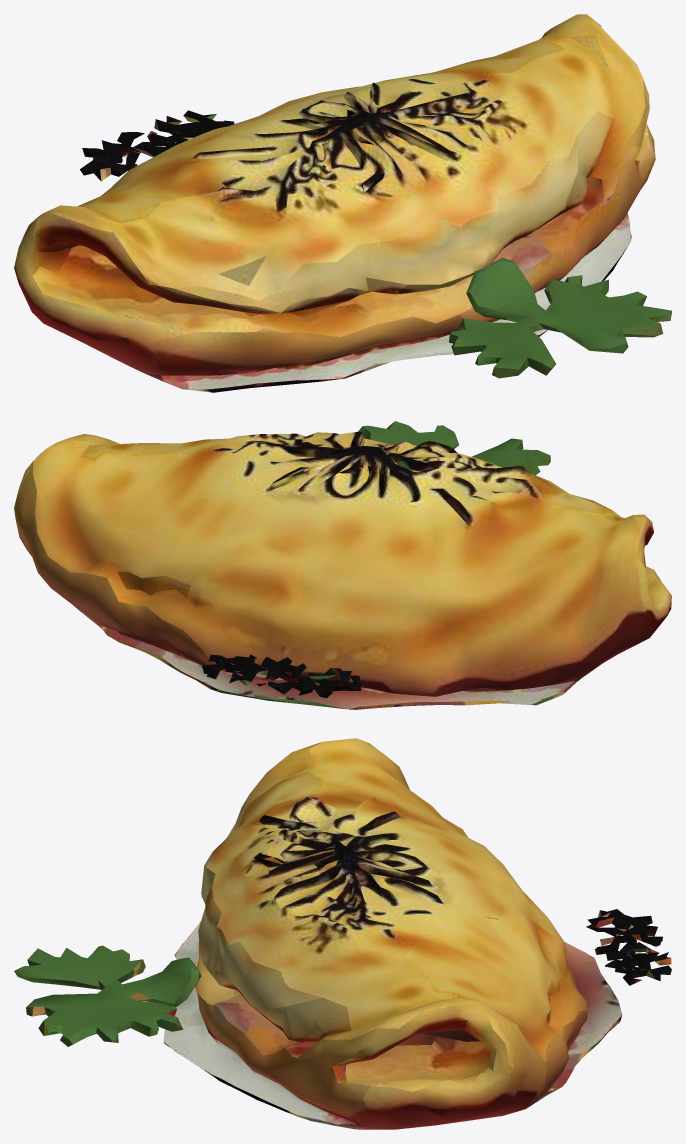
Rendered from truffle_omelette.glb.
The picture shows the model from 3 angles, top to bottom: view 1: azimuth 30°, elevation 25°; view 2: azimuth 150°, elevation 25°; view 3: azimuth 270°, elevation 25°; orthographic projection. The views are drawn at different scales.
Parts seen in each view (by area): view 1: truffle_omelette; view 2: truffle_omelette; view 3: truffle_omelette.
Part boxes in pixels (bbox=[...]): truffle_omelette: bbox=[14, 14, 671, 392]; truffle_omelette: bbox=[14, 421, 671, 709]; truffle_omelette: bbox=[14, 738, 671, 1129].
Bounding box in the file's own units: 1 × 0.2516 × 0.9496.
Materials: 1 (1 with a texture image).
